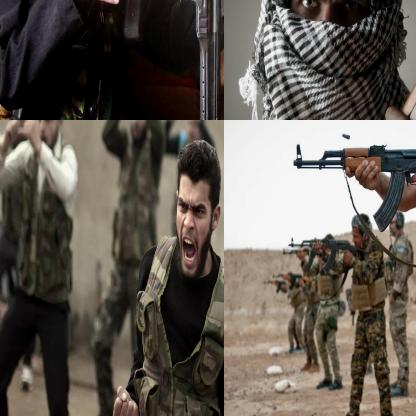rifle: (116, 0, 223, 119), (285, 137, 415, 231), (326, 0, 415, 119), (284, 238, 366, 276)
